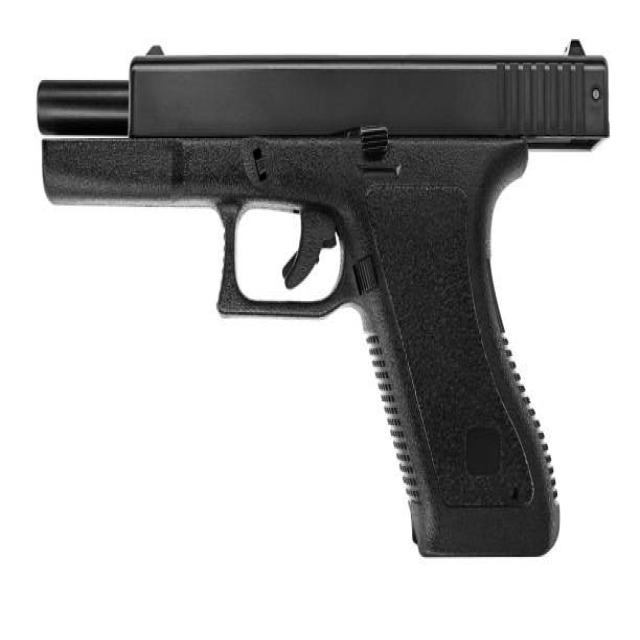pistol: (32, 35, 615, 569)
